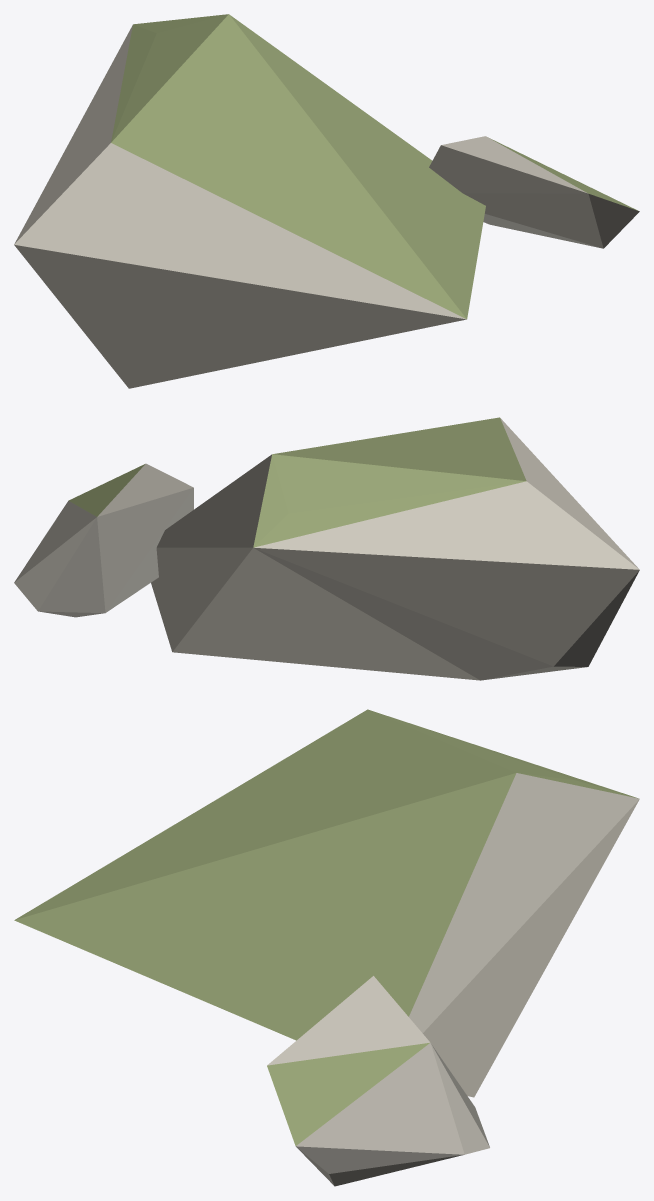
File: Boulder_1.glb
3 views of the same model, one above another, from view 1: azimuth 30°, elevation 25°; view 2: azimuth 150°, elevation 25°; view 3: azimuth 270°, elevation 25° (orthographic). The views are drawn at different scales.
Parts seen in each view (by area): view 1: Boulder_1; view 2: Boulder_1; view 3: Boulder_1.
Part boxes in pixels (left/top/right/bottom): Boulder_1: left=14, top=14, right=639, bottom=388; Boulder_1: left=14, top=417, right=639, bottom=680; Boulder_1: left=14, top=709, right=639, bottom=1186.
Size of the model in its own units: 1.17 by 0.4535 by 0.9837.
